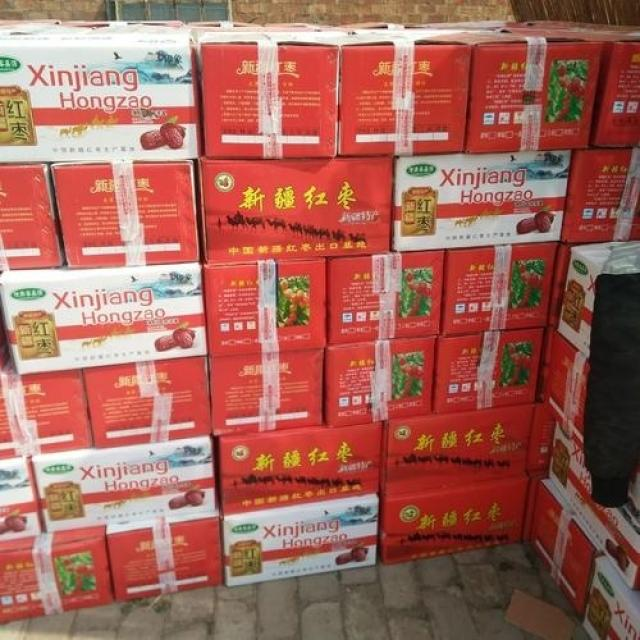box: (0, 33, 204, 164), (406, 32, 603, 152), (0, 262, 207, 375), (198, 156, 394, 262), (316, 33, 472, 157), (392, 150, 572, 252), (31, 435, 216, 534), (197, 31, 338, 159), (497, 28, 640, 147), (51, 161, 201, 268), (549, 422, 640, 591), (219, 421, 381, 515), (221, 493, 378, 589), (379, 403, 535, 498), (380, 475, 530, 564), (202, 259, 326, 357), (83, 356, 211, 449), (325, 250, 444, 346), (0, 527, 113, 625), (105, 511, 223, 604), (440, 242, 558, 334), (530, 479, 605, 623), (324, 335, 436, 428), (209, 349, 324, 436), (431, 328, 543, 415), (557, 241, 640, 357), (0, 361, 93, 461), (562, 147, 640, 242), (0, 164, 65, 270), (548, 332, 590, 452), (582, 556, 640, 640), (0, 456, 45, 541)
